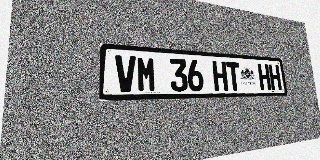3: (169, 58, 188, 92)
6: (186, 59, 204, 91)
H: (212, 61, 228, 91), (257, 64, 271, 90), (268, 64, 282, 90)
M: (136, 56, 157, 92)
T: (226, 62, 241, 91)
V: (115, 55, 137, 92)
